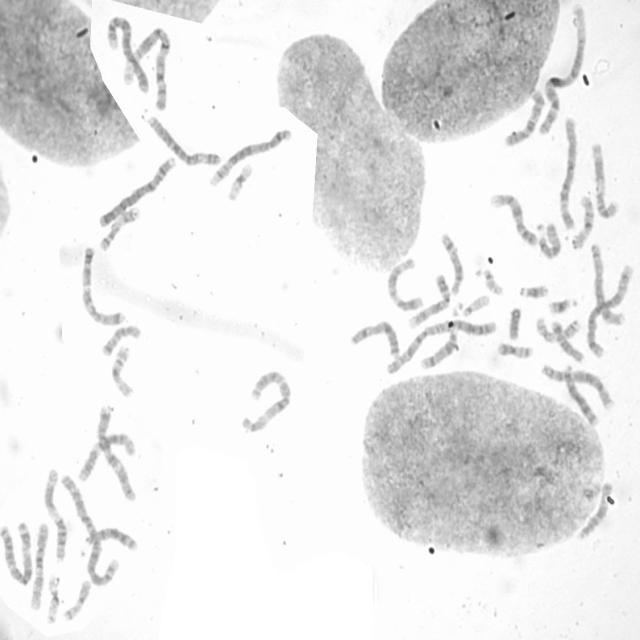A1: (537, 2, 588, 136), (120, 24, 172, 110)
A2: (380, 314, 499, 378), (57, 471, 118, 587)
A3: (240, 368, 292, 435), (0, 520, 34, 587)
B4: (95, 154, 177, 230), (104, 13, 151, 95)
B5: (208, 126, 294, 189), (584, 261, 635, 358)
C10: (502, 87, 546, 148), (28, 521, 48, 611)
C11: (589, 139, 620, 220), (42, 466, 68, 562)
C12: (76, 431, 136, 484), (384, 255, 424, 312)
C6: (145, 112, 222, 168), (558, 115, 578, 232)
C7: (94, 403, 138, 503), (78, 244, 128, 328)
C8: (539, 361, 615, 410), (589, 242, 627, 326)
C9: (488, 190, 540, 248), (406, 272, 452, 330)
D13: (562, 363, 600, 428), (78, 525, 139, 554)
D14: (416, 326, 458, 370), (440, 230, 465, 296)
D15: (574, 478, 611, 542), (536, 220, 563, 260)
E16: (109, 342, 135, 399), (570, 193, 595, 250)
E17: (98, 203, 140, 252), (533, 316, 580, 344)
E18: (552, 317, 586, 364), (99, 323, 141, 358)
F19: (226, 160, 253, 202), (46, 574, 60, 624)
F20: (61, 578, 92, 622), (495, 340, 534, 360)
G21: (546, 294, 580, 316), (516, 281, 549, 300)
G22: (452, 292, 490, 319), (478, 266, 504, 296)
X: (348, 318, 401, 359)
Y: (506, 304, 522, 340)
